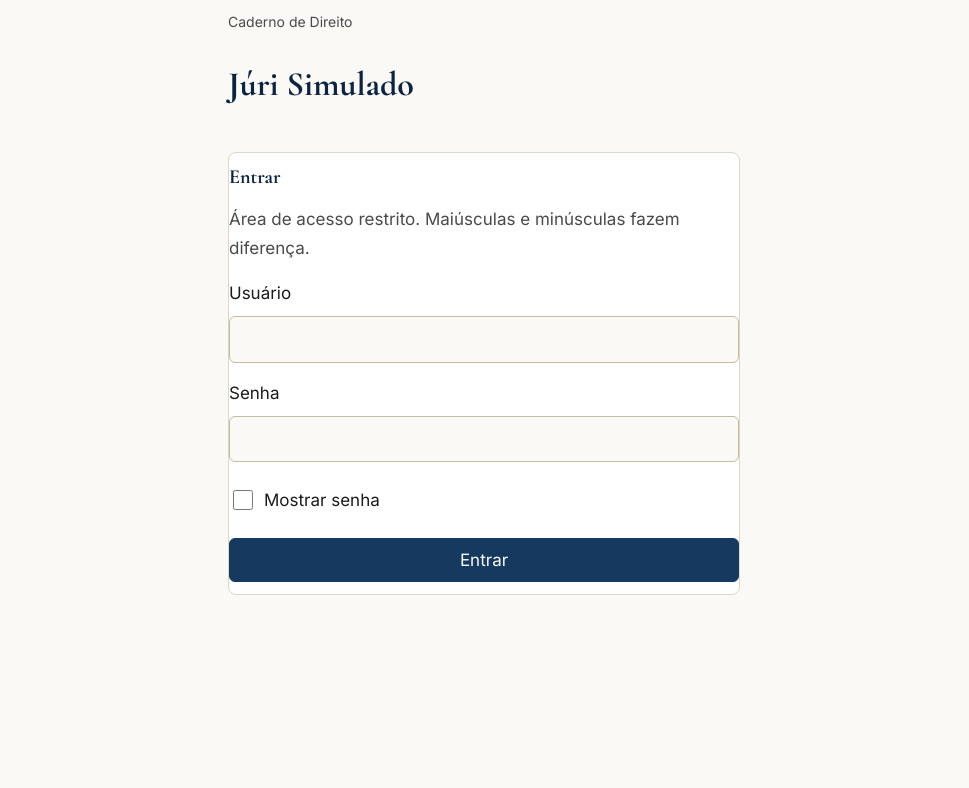
Test: AreaJuri: aberta, recarregar e sair › depois de entrar mostra quem entrou, o marcador de conteúdo e o botão Sair
The width and height of the screenshot is (969, 788).
Type "admin" into the field named "usuario" at (484, 339), box x1=229 y1=316 x2=739 y2=363
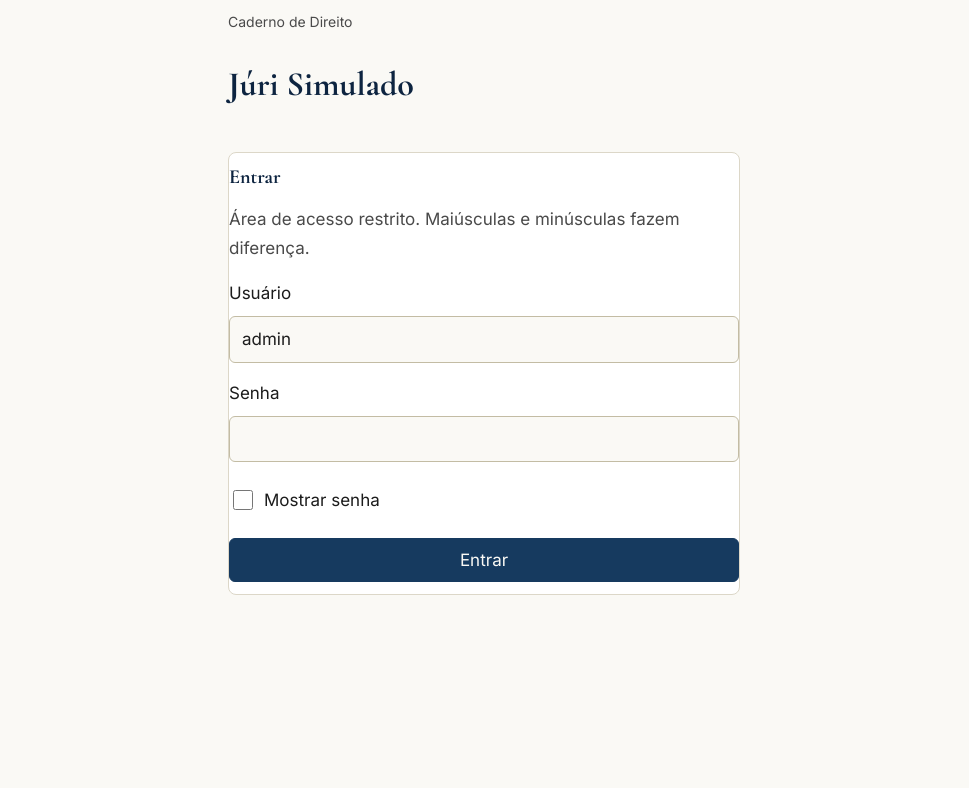
Type "provisoria-sintetica-de-teste" into the password field named "senha" at (484, 439), box x1=229 y1=416 x2=739 y2=462
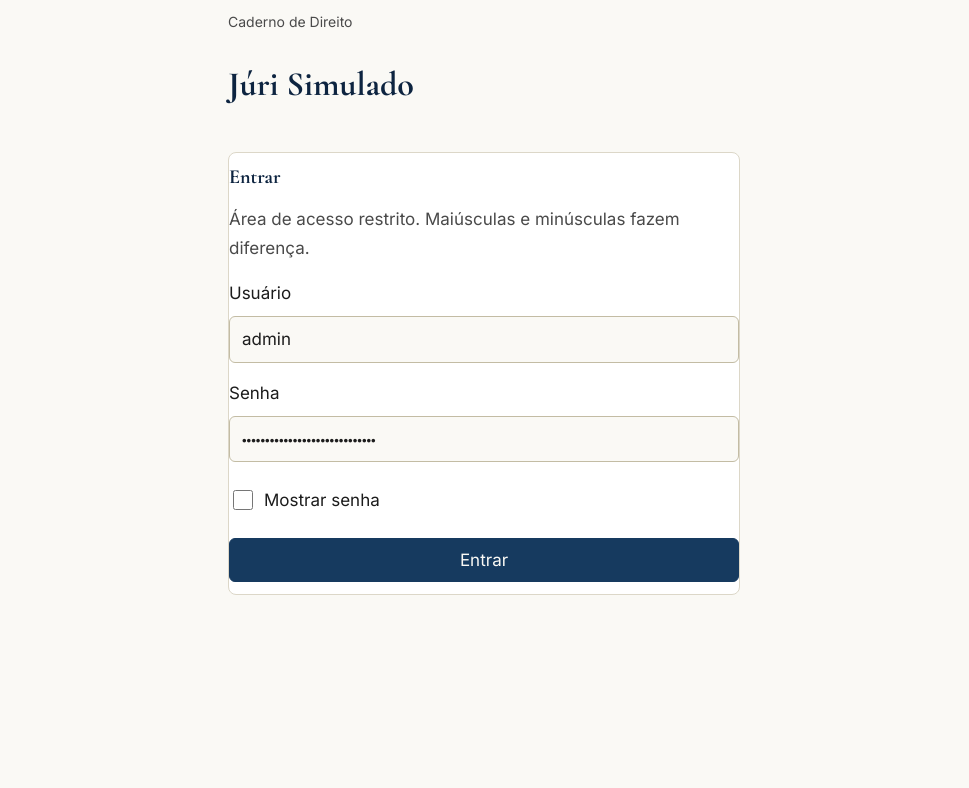
Submit the form, box x1=228 y1=152 x2=740 y2=595
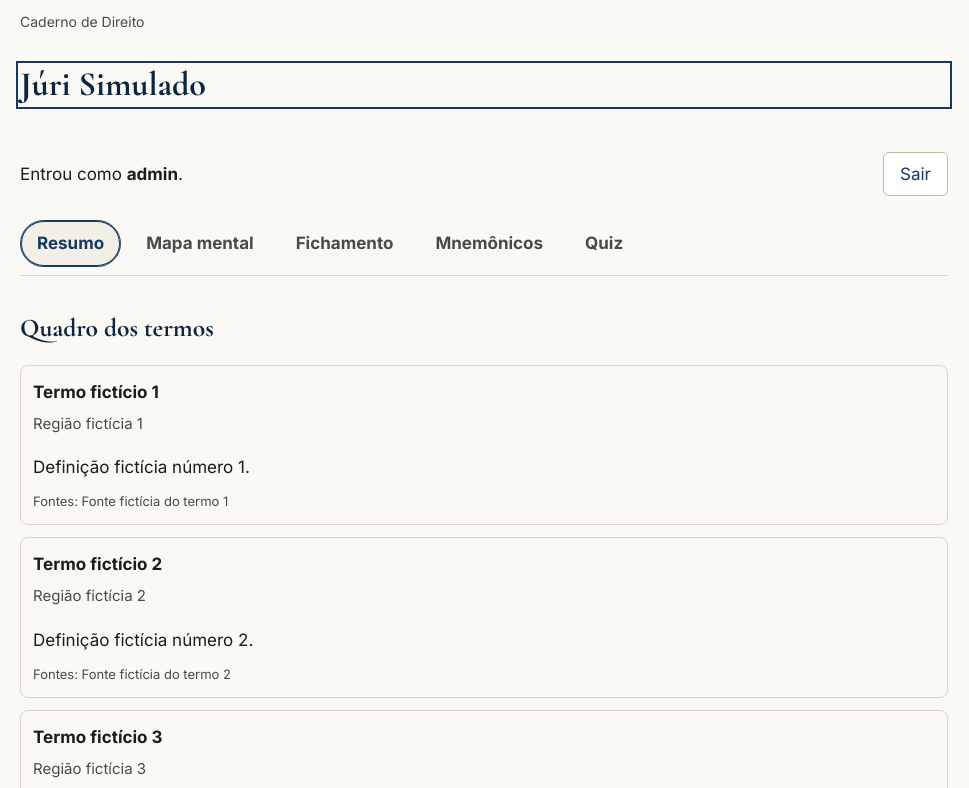
Check: the button "Sair" is shown, box x1=883 y1=152 x2=948 y2=196
Check: the number of tabs is 5, box x1=20 y1=220 x2=121 y2=267; x1=129 y1=220 x2=271 y2=267; x1=279 y1=220 x2=410 y2=267; x1=418 y1=220 x2=560 y2=267; x1=568 y1=220 x2=640 y2=267
